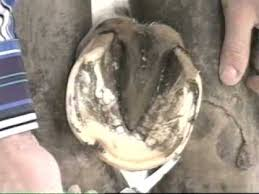horsesole: (65, 31, 203, 172)
